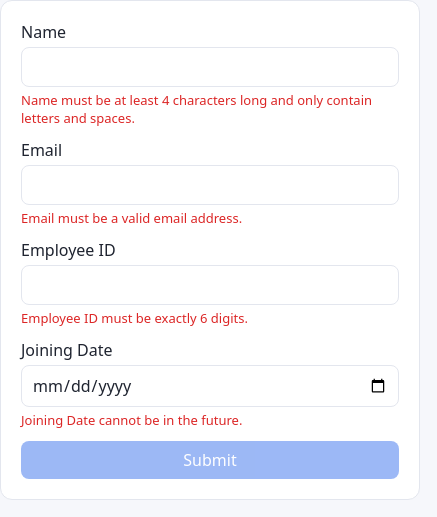
Employee Validation › removes each error once its field is valid
Type "Jo" into the field labelled "Name" at (210, 67), box [21,47,399,87]
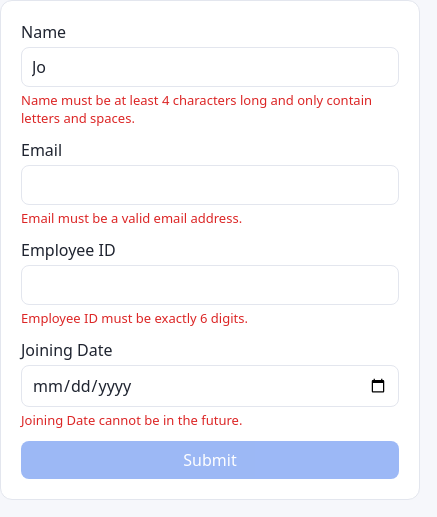
Expected: the text "Name must be at least 4 characters long and only contain letters and spaces." is shown, [21,91,399,127]
Replace the text in the field labelled "Name" with "John 2" at (210, 67), box [21,47,399,87]
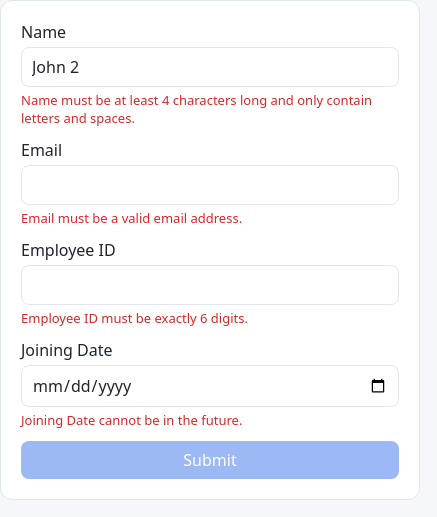
Expected: the text "Name must be at least 4 characters long and only contain letters and spaces." is shown, [21,91,399,127]
Replace the text in the field labelled "Name" with "John Smith" at (210, 67), box [21,47,399,87]
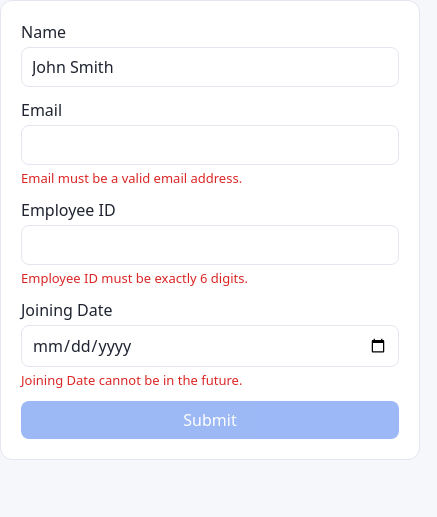
Expected: the text "Name must be at least 4 characters long and only contain letters and spaces." is gone
Type "12345" into the field labelled "Employee ID" at (210, 245), box [21,225,399,265]
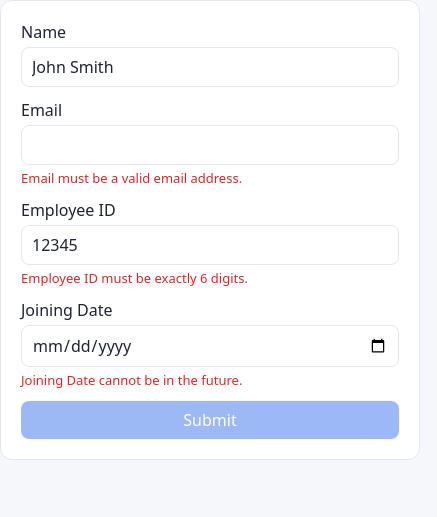
Expected: the text "Employee ID must be exactly 6 digits." is shown, [21,269,248,287]
Replace the text in the field labelled "Employee ID" with "123456" at (210, 245), box [21,225,399,265]
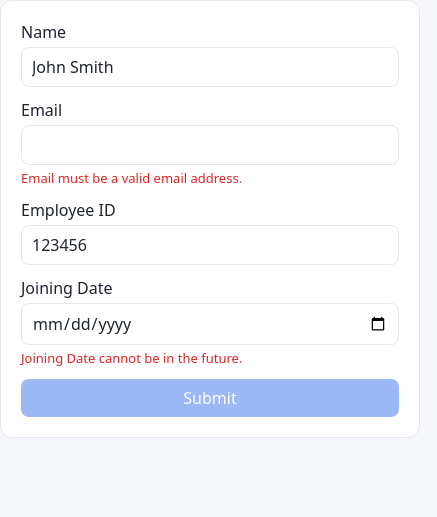
Expected: the text "Employee ID must be exactly 6 digits." is gone
